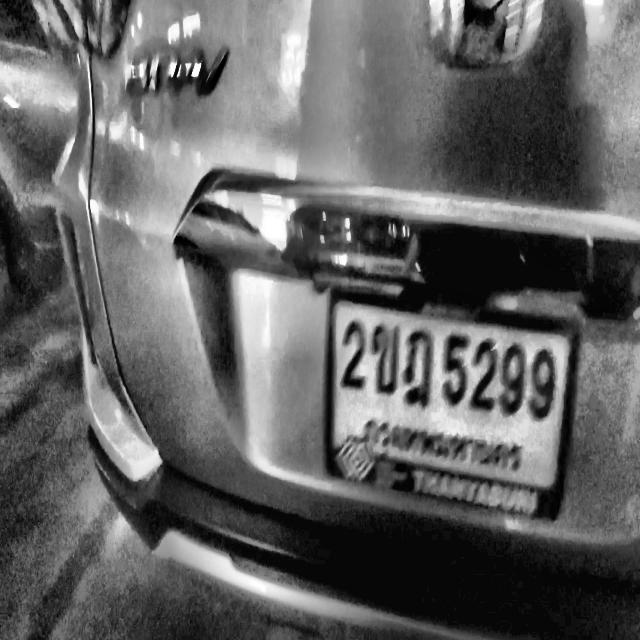license-plate: (330, 304, 569, 495)
